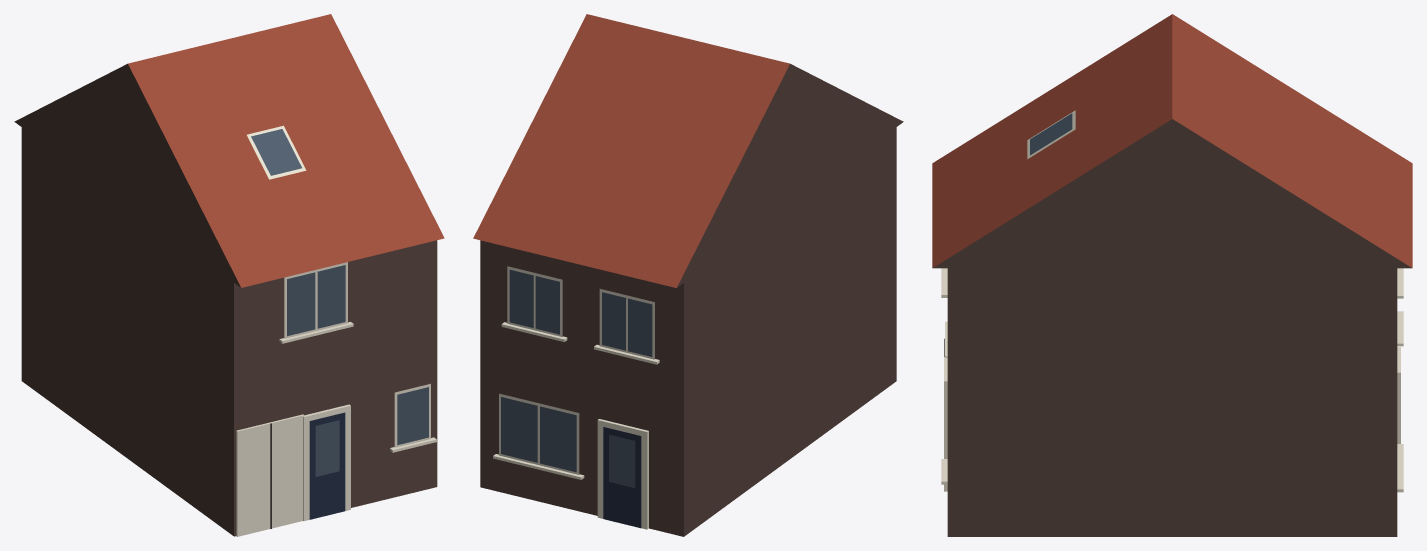
Rendered from nw-rowhouse-garage-door__cream-navy-tile__2__gable__long__solid.glb.
3 renders of one model, left to right at view 1: azimuth 30°, elevation 25°; view 2: azimuth 150°, elevation 25°; view 3: azimuth 270°, elevation 25°, orthographic. The views are drawn at different scales.
Parts seen in each view (by area): view 1: nw-rowhouse-garage-door__cream-navy-tile__2__gable__long__so; view 2: nw-rowhouse-garage-door__cream-navy-tile__2__gable__long__so; view 3: nw-rowhouse-garage-door__cream-navy-tile__2__gable__long__so.
Boxes of the visible parts, x1,y1,x2,y2 form: nw-rowhouse-garage-door__cream-navy-tile__2__gable__long__so: (14,14,444,536); nw-rowhouse-garage-door__cream-navy-tile__2__gable__long__so: (473,14,903,536); nw-rowhouse-garage-door__cream-navy-tile__2__gable__long__so: (932,14,1412,536).
Bounding box in the file's own units: 4.85 × 9 × 9.38.
